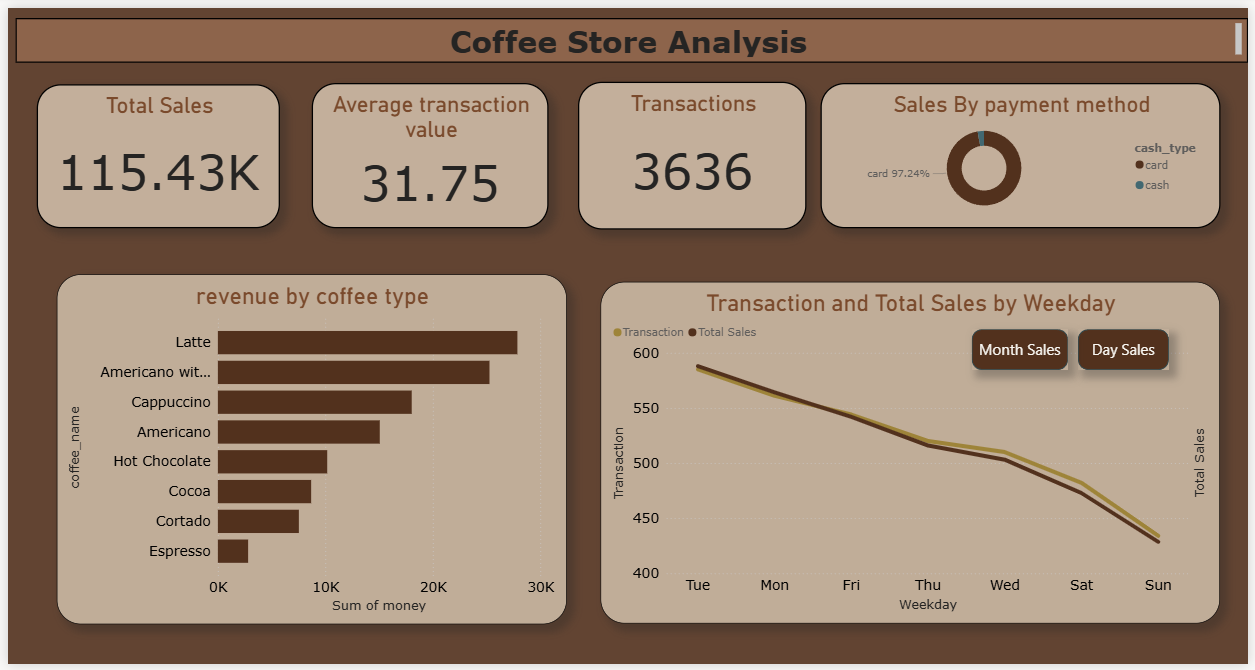

Layout of this report page (visuals, bound fields, positions):
{"tool":"powerbi","page":{"name":"Page 1","canvas":[1550,820],"ordinal":0},"visuals":[{"type":"textbox","box":[9.9,12.7,1540.4,56.3],"z":0},{"type":"card","title":"Average transaction value","fields":{"Values":["Table_1.Average Transaction Value"]},"box":[380.2,94.3,295.7,181.6],"z":1000},{"type":"donutChart","title":"Sales By payment method","fields":{"Category":["Table_1.cash_type"],"Y":["Sum(Table_1.money)"]},"box":[1015.2,94.3,499.9,181.6],"z":2000},{"type":"card","title":"Transactions","fields":{"Values":["Table_1.Transaction"]},"box":[712.5,91.5,285.8,184.5],"z":3000},{"type":"card","title":"Total Sales","fields":{"Values":["Table_1.Total Sales"]},"box":[35.2,95.7,304.1,180.2],"z":4000},{"type":"clusteredBarChart","title":"revenue by coffee type","fields":{"Category":["Table_1.coffee_name"],"Y":["Sum(Table_1.money)"]},"box":[61,332.2,637.3,437.3],"z":5000},{"type":"lineChart","fields":{"Category":["Table_1.Weekday"],"Y":["Table_1.Transaction"],"Y2":["Table_1.Total Sales"]},"box":[740.7,342.4,774.6,427.1],"z":6000},{"type":"shape","box":[1337.3,401.7,113.6,50.8],"z":8000},{"type":"shape","box":[1205.1,401.7,120.3,50.8],"z":9000}]}

Visuals, with their boxes in screenshot pixels (x1, y1, x2, y2), scaled from the page's 1550x820 canvas onto the 1255x670 screenshot:
textbox: 8, 10, 1254, 56
"Average transaction value" card: 308, 77, 547, 225
"Sales By payment method" donutChart: 822, 77, 1227, 225
"Transactions" card: 577, 75, 808, 226
"Total Sales" card: 29, 78, 275, 225
"revenue by coffee type" clusteredBarChart: 49, 271, 565, 629
lineChart - Table_1.Weekday x Table_1.Transaction: 600, 280, 1227, 629
shape: 1083, 328, 1175, 370
shape: 976, 328, 1073, 370
